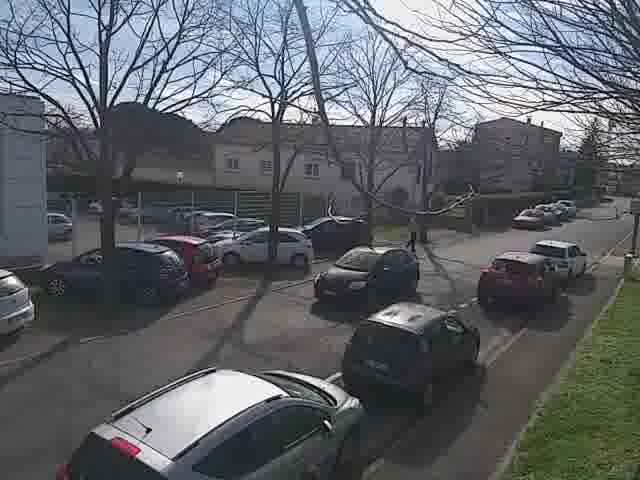persona: (400, 209, 425, 253)
